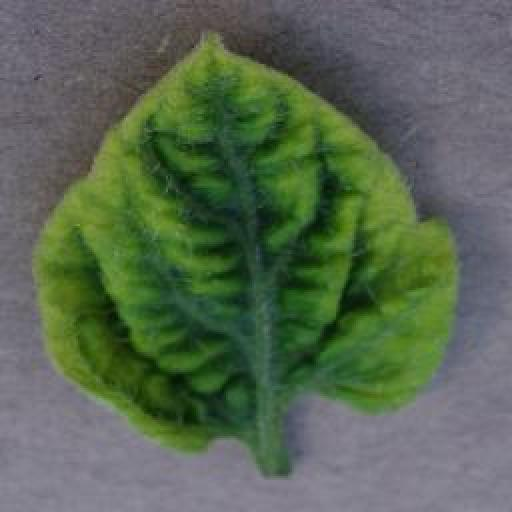disease_tomato: (33, 26, 460, 454)
